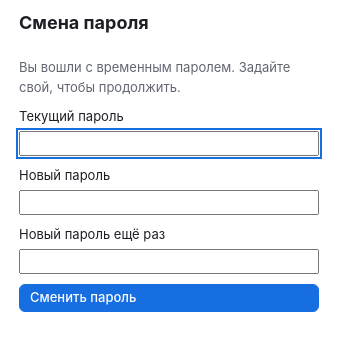
it: несовпадающие пароли не отправляются
The image size is (339, 362).
expect the text "временным паролем" is shown: met, box [19, 59, 290, 95]
Type "x" into the password field labelled "Текущий пароль".
click(169, 143); type("x")  # box [19, 131, 319, 156]
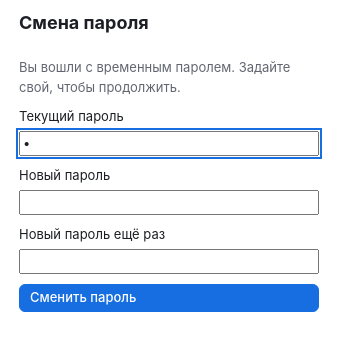
Type "aaaaaaaa" into the password field labelled "Новый пароль".
click(169, 202); type("aaaaaaaa")  # box [19, 190, 319, 215]
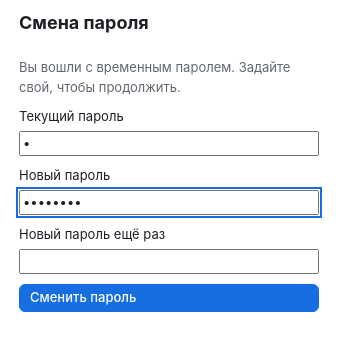
Type "bbbbbbbb" into the password field labelled "Новый пароль ещё раз".
click(169, 261); type("bbbbbbbb")  # box [19, 249, 319, 274]
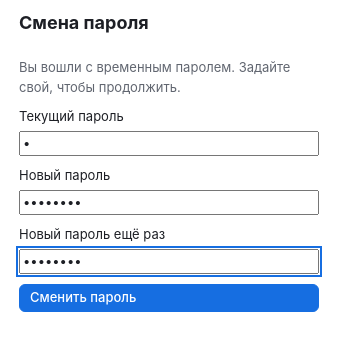
Click the button "Сменить пароль".
click(83, 297)  # box [19, 284, 319, 312]
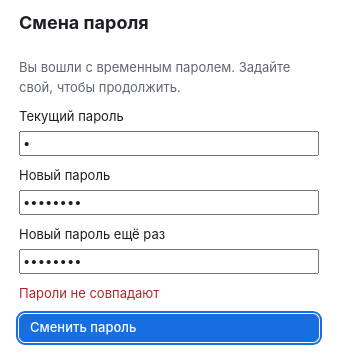
expect the text "Пароли не совпадают" is shown: met, box [19, 285, 159, 301]
